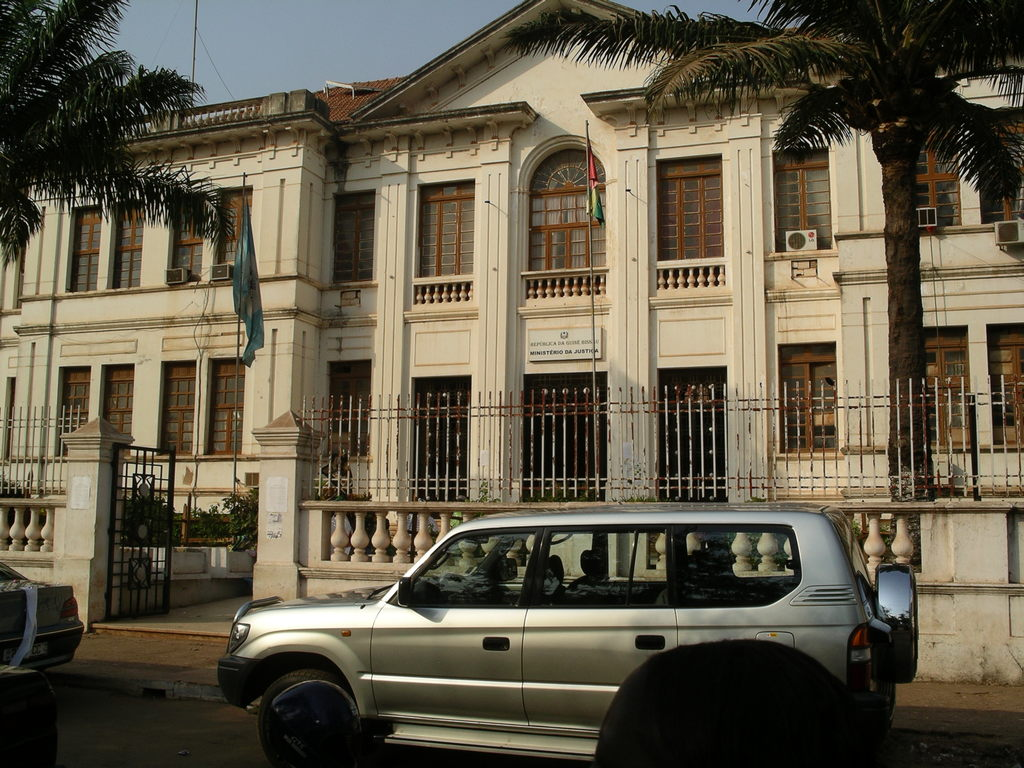Car: (192, 503, 919, 764), (0, 563, 82, 680)
